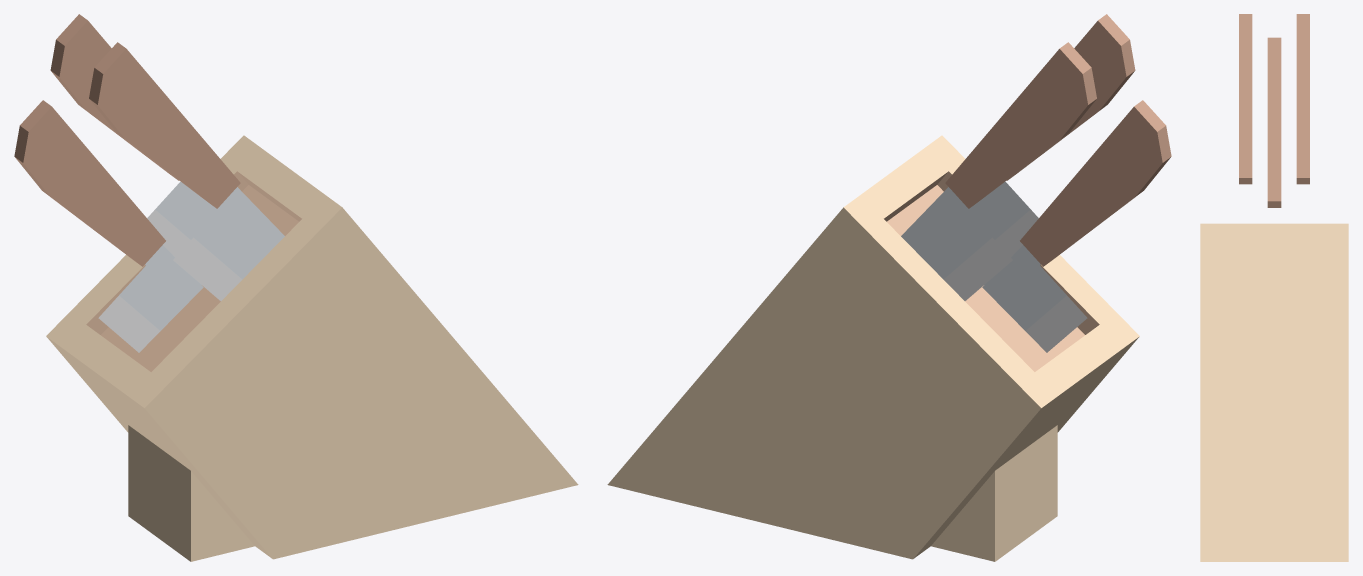
Rendered from Knives block.fbx.
3 renders of one model, left to right at view 1: azimuth 30°, elevation 25°; view 2: azimuth 150°, elevation 25°; view 3: azimuth 270°, elevation 25°, orthographic. The views are drawn at different scales.
Parts seen in each view (by area): view 1: knifeBlock; view 2: knifeBlock; view 3: knifeBlock.
Boxes of the visible parts, x1,y1,x2,y2 form: knifeBlock: (14, 14, 578, 561); knifeBlock: (607, 14, 1171, 561); knifeBlock: (1200, 14, 1348, 561).
Size of the model in its own units: 66.28 by 64.72 by 22.18.
